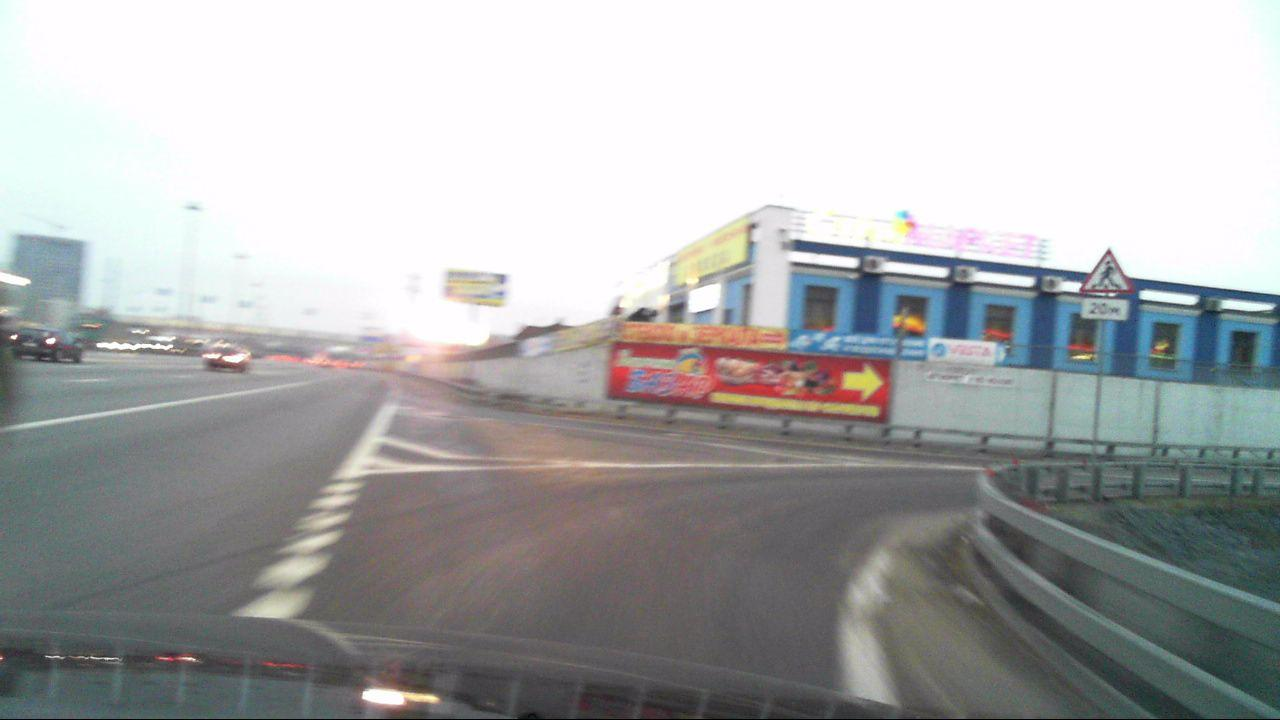1_22: (1081, 247, 1133, 294)
8_1_1: (1081, 297, 1130, 321)
